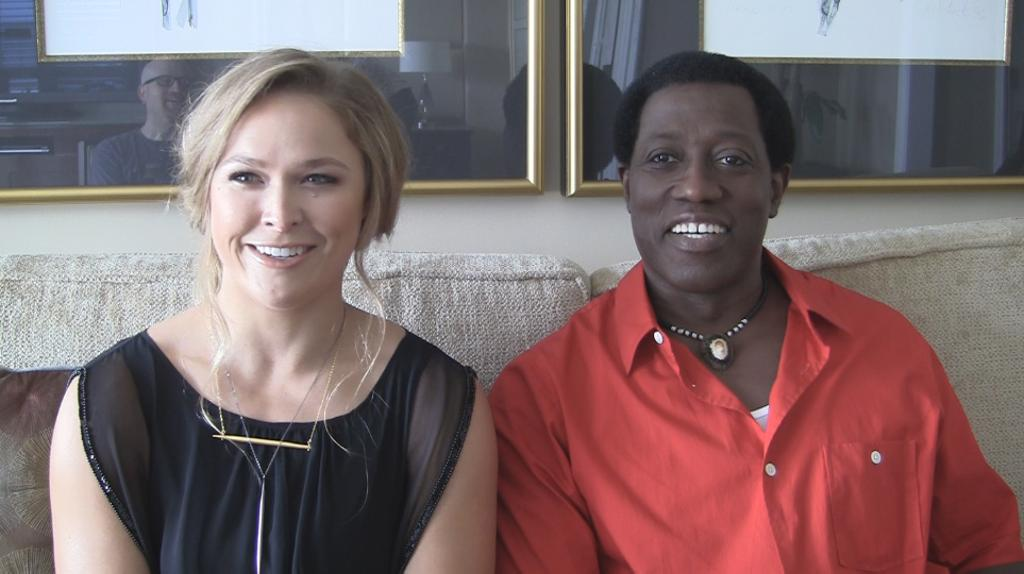face: (209, 98, 366, 304), (628, 89, 772, 290), (143, 57, 192, 117)
